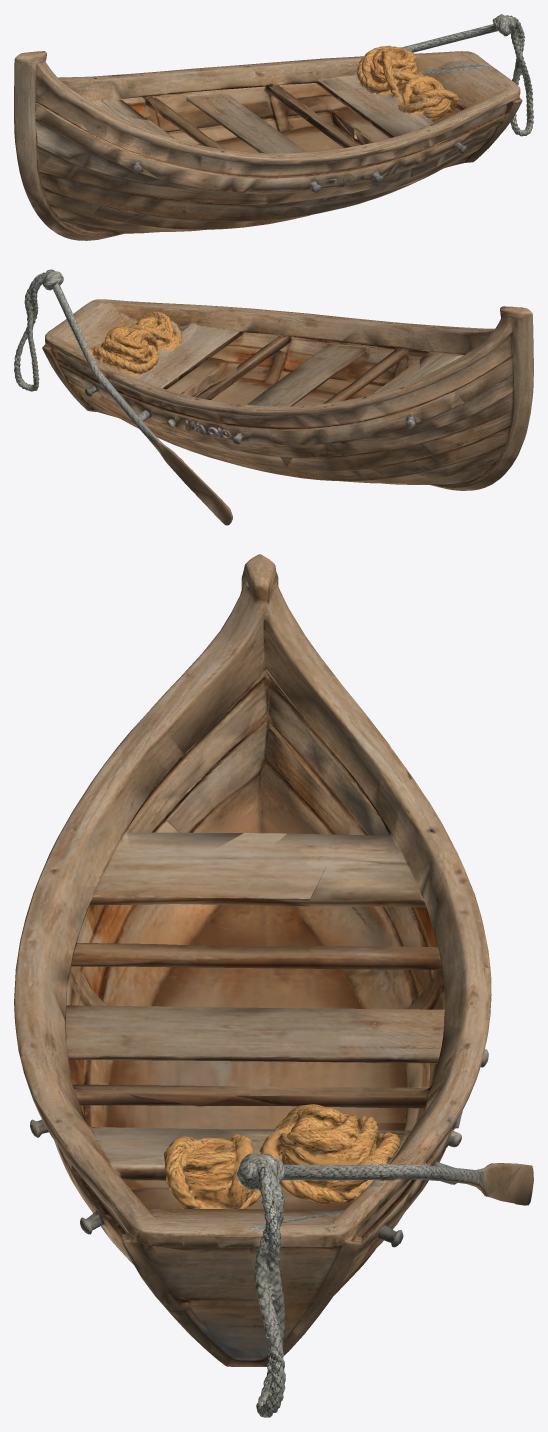
File: skiff.glb
3 renders of one model, top to bottom at view 1: azimuth 30°, elevation 25°; view 2: azimuth 150°, elevation 25°; view 3: azimuth 270°, elevation 25°, orthographic. The views are drawn at different scales.
Parts seen in each view (by area): view 1: output_unwrapped; view 2: output_unwrapped; view 3: output_unwrapped.
Boxes of the visible parts, box(x1,y1,x2,y2) form: output_unwrapped: box(14, 14, 533, 240); output_unwrapped: box(14, 269, 533, 525); output_unwrapped: box(14, 554, 533, 1417).
Bounding box in the file's own units: 4.2 × 1.72 × 1.9.
Materials: 1 (1 with a texture image).
